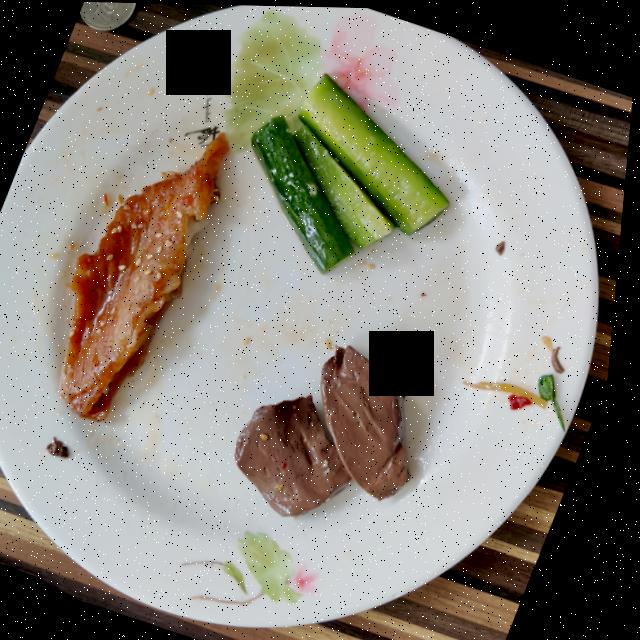Kabayaki sea bream fillet: (67, 132, 231, 421)
coin: (79, 1, 135, 31)
cucumber: (253, 73, 452, 271)
pig blood curd: (242, 343, 417, 515)
